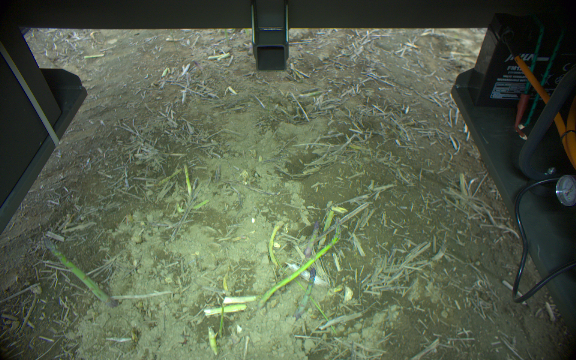aspa: (258, 219, 344, 307), (41, 235, 117, 308), (294, 267, 320, 323), (264, 219, 285, 269), (301, 219, 323, 261), (203, 303, 248, 317), (215, 293, 264, 304), (205, 324, 220, 356), (182, 163, 193, 203), (322, 207, 335, 234)
